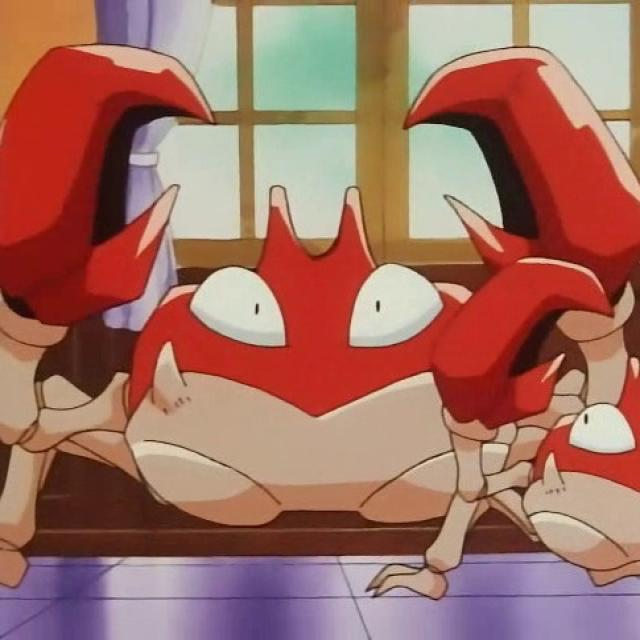Krabby: (0, 40, 620, 515)
